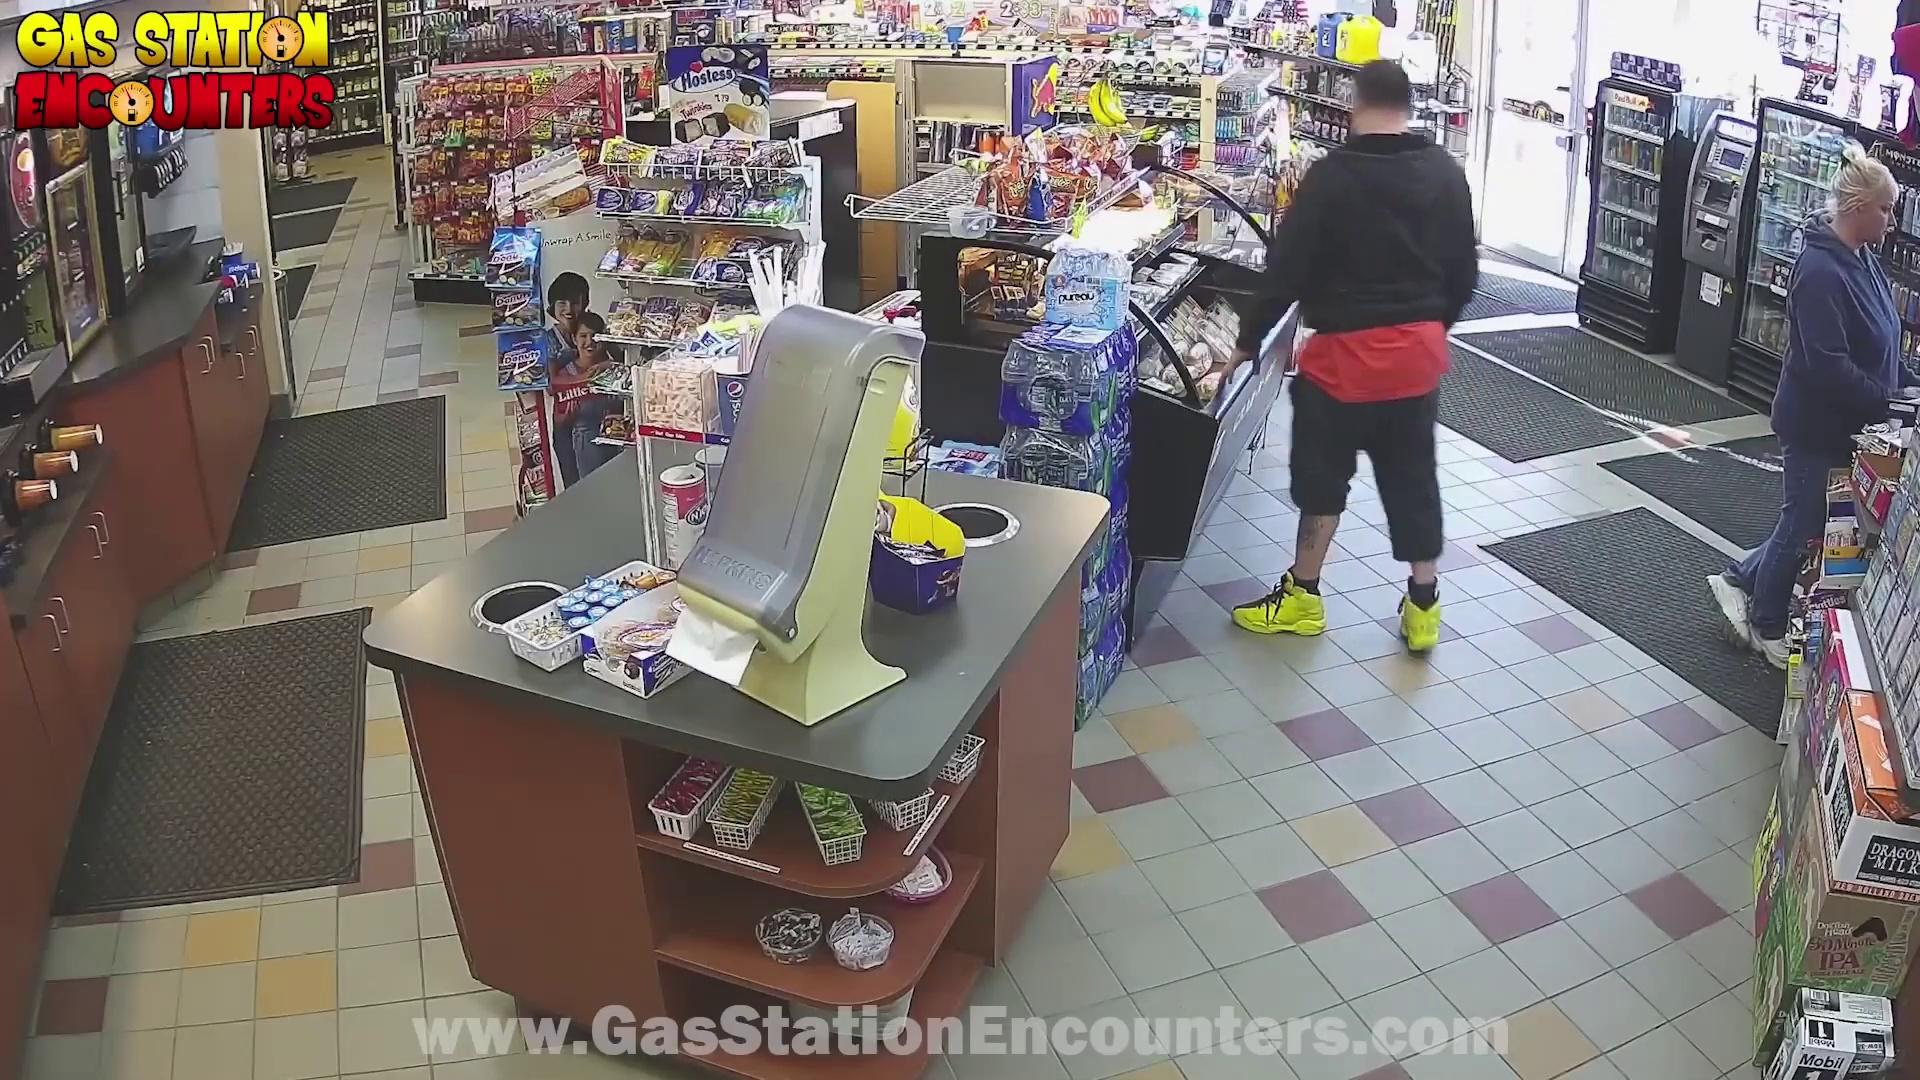Regular: (1174, 59, 1495, 674), (1772, 84, 1920, 622)
